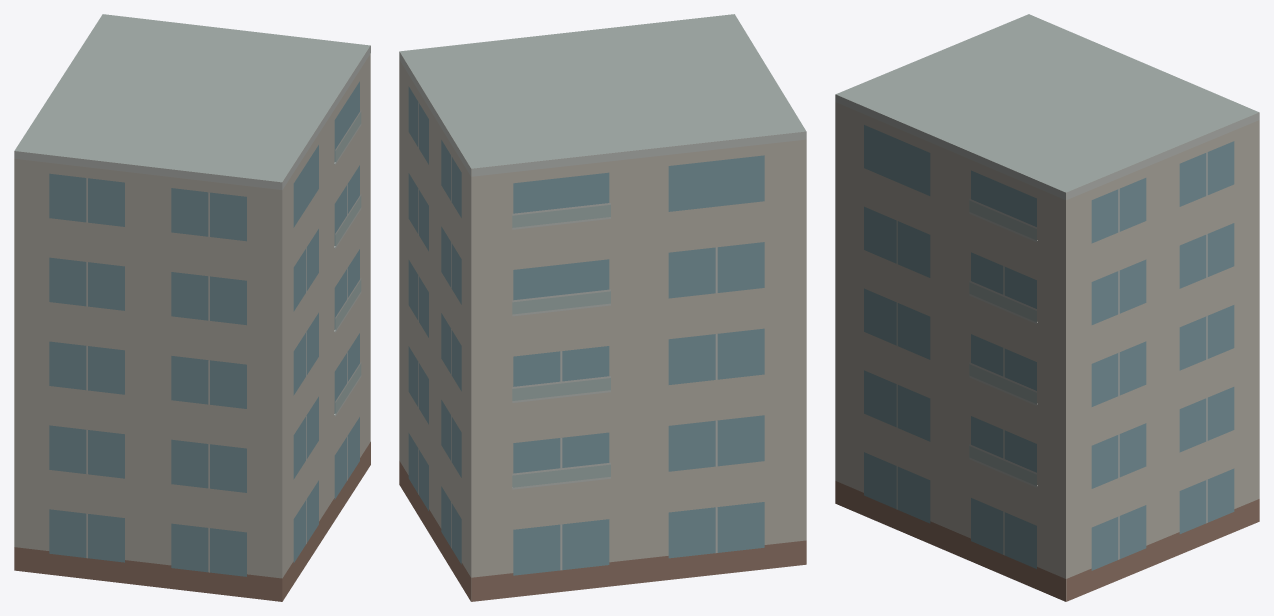
The model's file is survey-upis-32694430.glb.
The picture shows the model from 3 angles, left to right: view 1: azimuth 30°, elevation 25°; view 2: azimuth 150°, elevation 25°; view 3: azimuth 270°, elevation 25°; orthographic projection. The views are drawn at different scales.
Visible parts, largest first — view 1: survey-upis-32694430.tmp; view 2: survey-upis-32694430.tmp; view 3: survey-upis-32694430.tmp.
Boxes of the visible parts, bbox=[...] form: survey-upis-32694430.tmp: bbox=[14, 14, 370, 601]; survey-upis-32694430.tmp: bbox=[399, 14, 806, 601]; survey-upis-32694430.tmp: bbox=[835, 14, 1259, 601].
Bounding box in the file's own units: 12.28 × 13.1 × 12.31.
